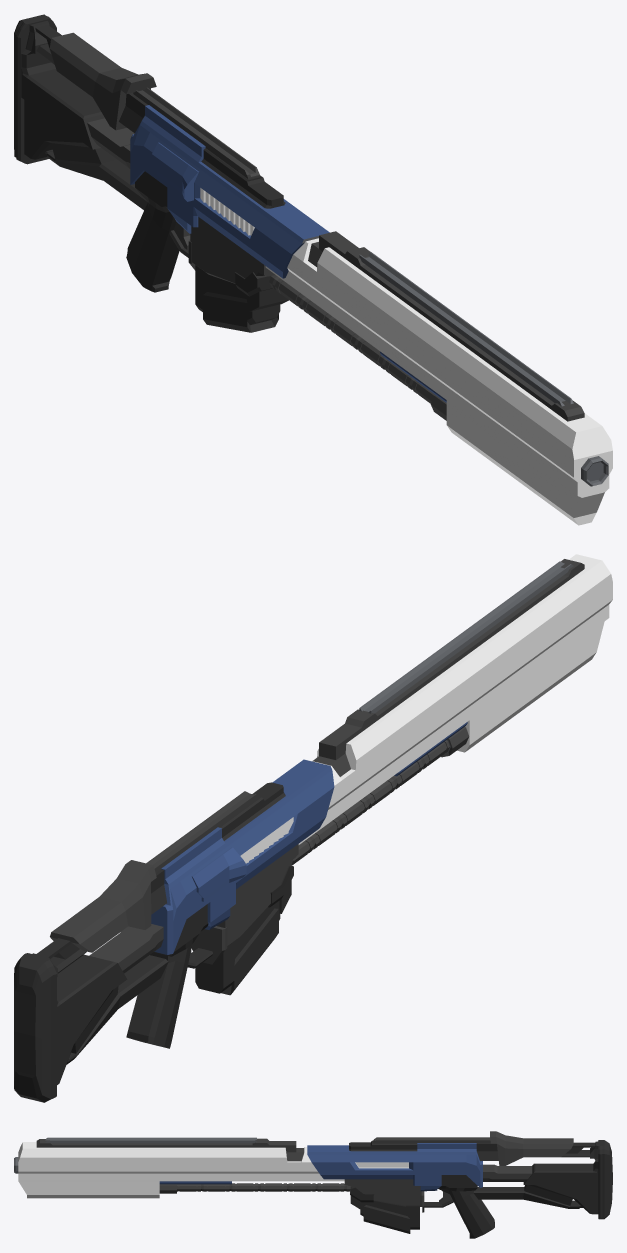
Rendered from Gun_Unity Import.fbx.
3 renders of one model, top to bottom at view 1: azimuth 30°, elevation 25°; view 2: azimuth 150°, elevation 25°; view 3: azimuth 270°, elevation 25°, orthographic. The views are drawn at different scales.
Parts seen in each view (by area): view 1: Gun_barrel R, Gun_chamber R, Gun_toe, Gun_stock fitting, Gun_iron sight, Gun_sight fit, Gun_grip, Gun_magazine, Gun_magazine fit, Gun_chamber fit top, Gun_heel, Gun_chamber fit (+6 smaller); view 2: Gun_barrel R, Gun_chamber R, Gun_toe, Gun_heel, Gun_stock fitting, Gun_sight fit, Gun_iron sight, Gun_grip, Gun_magazine, Gun_magazine fit, Gun_heel connector, Gun_chamber fit top (+5 smaller); view 3: Gun_barrel L, Gun_chamber L, Gun_toe, Gun_stock fitting, Gun_sight fit, Gun_magazine fit, Gun_iron sight, Gun_magazine, Gun_grip, Gun_heel, Gun_heel connector, Gun_chamber fit top (+14 smaller).
Boxes of the visible parts, x1,y1,x2,y2 form: Gun_barrel R: (265,238,593,525); Gun_chamber R: (130,105,317,278); Gun_toe: (21,21,175,221); Gun_stock fitting: (49,32,156,130); Gun_iron sight: (359,252,573,406); Gun_sight fit: (308,231,584,421); Gun_grip: (126,202,179,292); Gun_magazine: (195,265,280,332); Gun_magazine fit: (190,217,275,283); Gun_chamber fit top: (133,87,259,178); Gun_heel: (14,14,56,164); Gun_chamber fit: (201,148,285,208); Gun_barrel R: (298,557,612,844); Gun_chamber R: (151,762,334,954); Gun_toe: (32,953,168,1084); Gun_heel: (14,953,56,1102); Gun_stock fitting: (50,860,156,952); Gun_sight fit: (312,559,584,776); Gun_iron sight: (359,561,573,713); Gun_grip: (126,945,191,1048); Gun_magazine: (195,900,280,995); Gun_magazine fit: (217,844,298,945); Gun_heel connector: (89,924,163,973); Gun_chamber fit top: (146,791,259,872); Gun_barrel L: (18,1145,344,1198); Gun_chamber L: (307,1143,482,1191); Gun_toe: (438,1141,598,1214); Gun_stock fitting: (490,1131,573,1165); Gun_sight fit: (36,1138,304,1161); Gun_magazine fit: (344,1179,421,1206); Gun_iron sight: (45,1137,256,1143); Gun_magazine: (360,1201,419,1233); Gun_grip: (449,1190,494,1238); Gun_heel: (598,1140,612,1219); Gun_heel connector: (483,1164,532,1181); Gun_chamber fit top: (373,1137,490,1143).
Size of the model in its own units: 55.56 by 198 by 1046.
